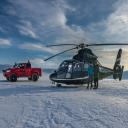helicopter: (44, 40, 128, 90)
